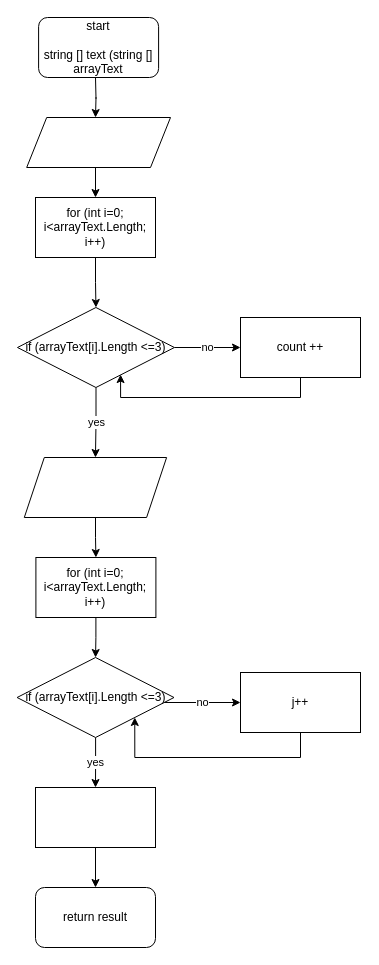
This 379x965 diagram has some shape labels left out. The box of each missing label's shape, as (x1, y1, x2, y2) in pixels:
result [j] = arrayText[i]: (34, 786, 156, 848)
string [] arrayText int count =0: (26, 116, 170, 168)
string [] result = new string [size] int j=0: (23, 456, 167, 518)
